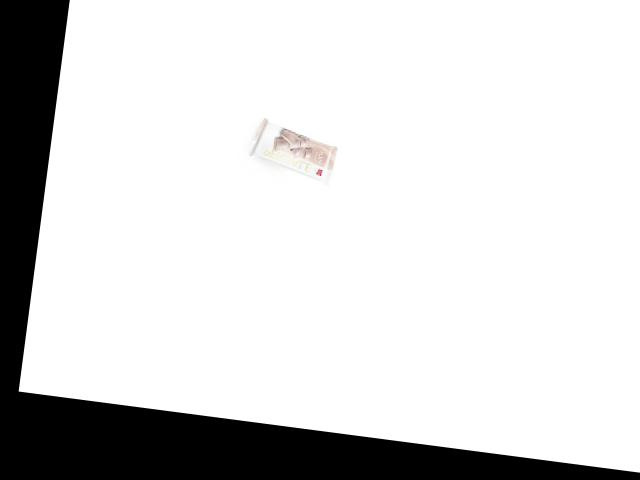chocolate: (251, 110, 341, 188)
